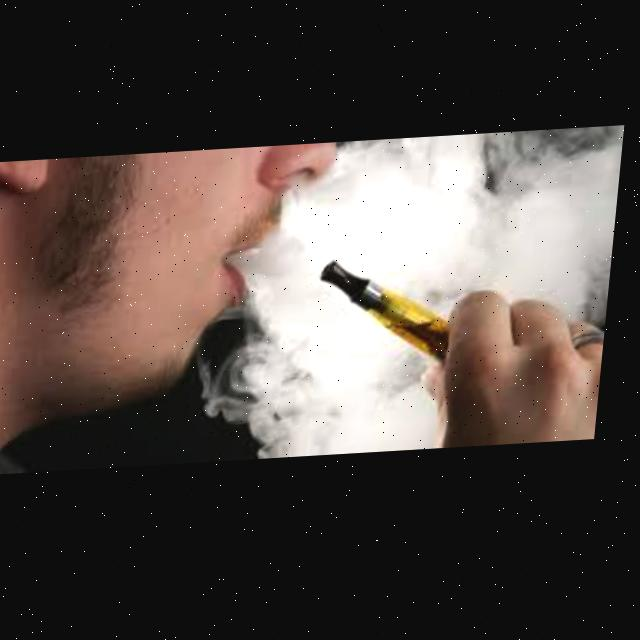vape: (321, 259, 464, 378)
